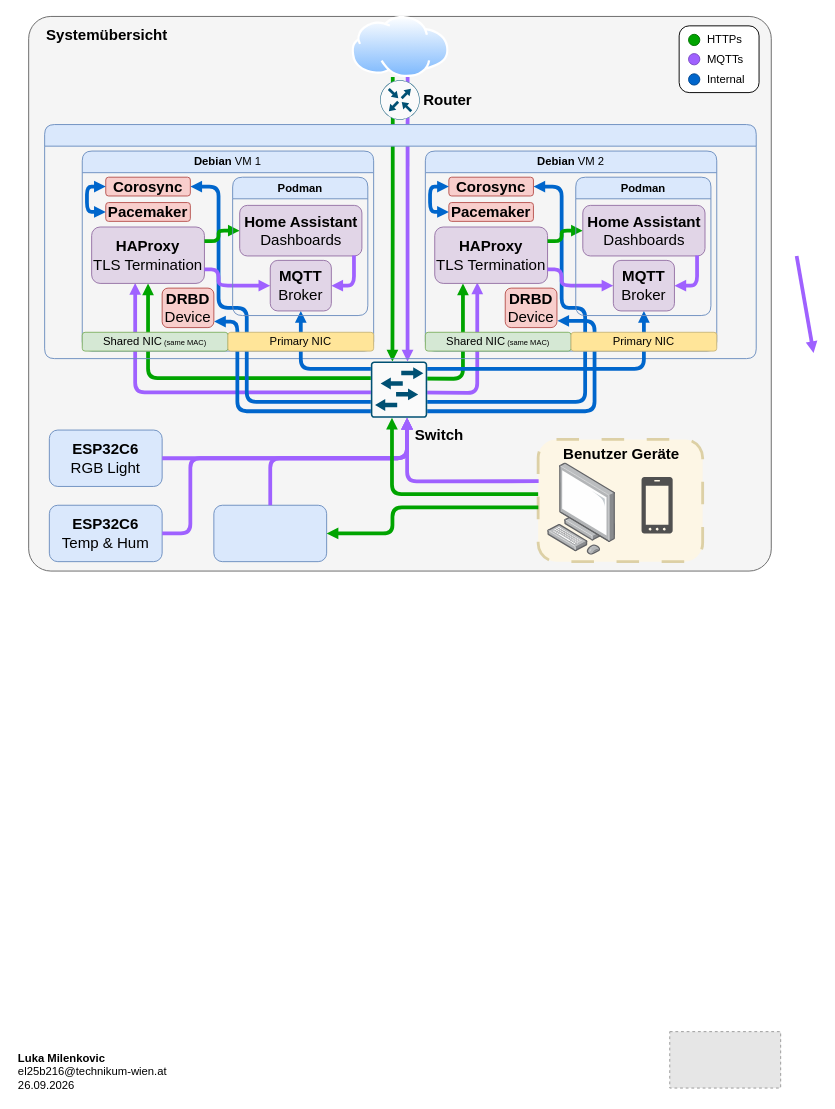
Image size: 835x1109. Some labels were removed from this diagram. Grey dashed boxes stand in for pictures. The box of each missing label's shape, as (x1, y1, x2, y2) in pixels:
Internet: (352, 16, 449, 77)
Project IoNoW Server GitHub: KhanKudo/setu-iot-2026: (213, 504, 327, 562)
Proxmox Hypervisor: (44, 124, 756, 359)
